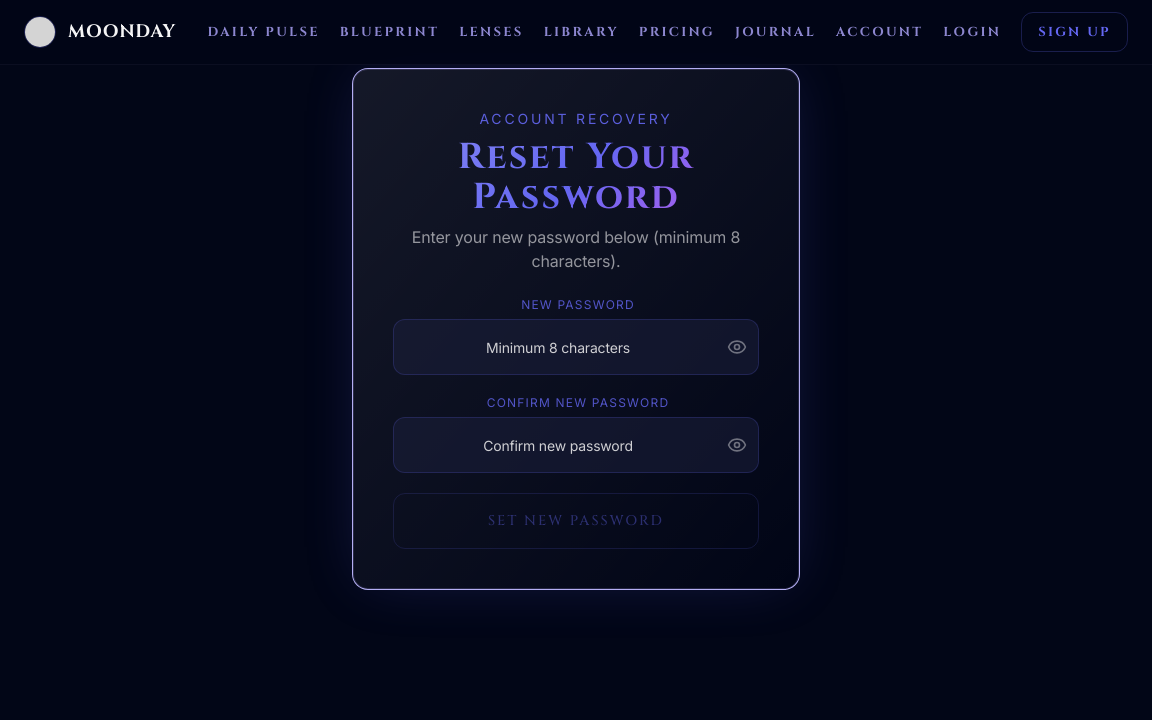
Scenario: Password Reset Flow › 2. Password Reset Page › shows success message on successful password update
The width and height of the screenshot is (1152, 720).
Expected: the heading "Reset Your Password" is shown, [393, 137, 759, 217]
In the password field with placeholder "Minimum 8 characters": (576, 347) [393, 319, 759, 375], type "secureCelestial123"
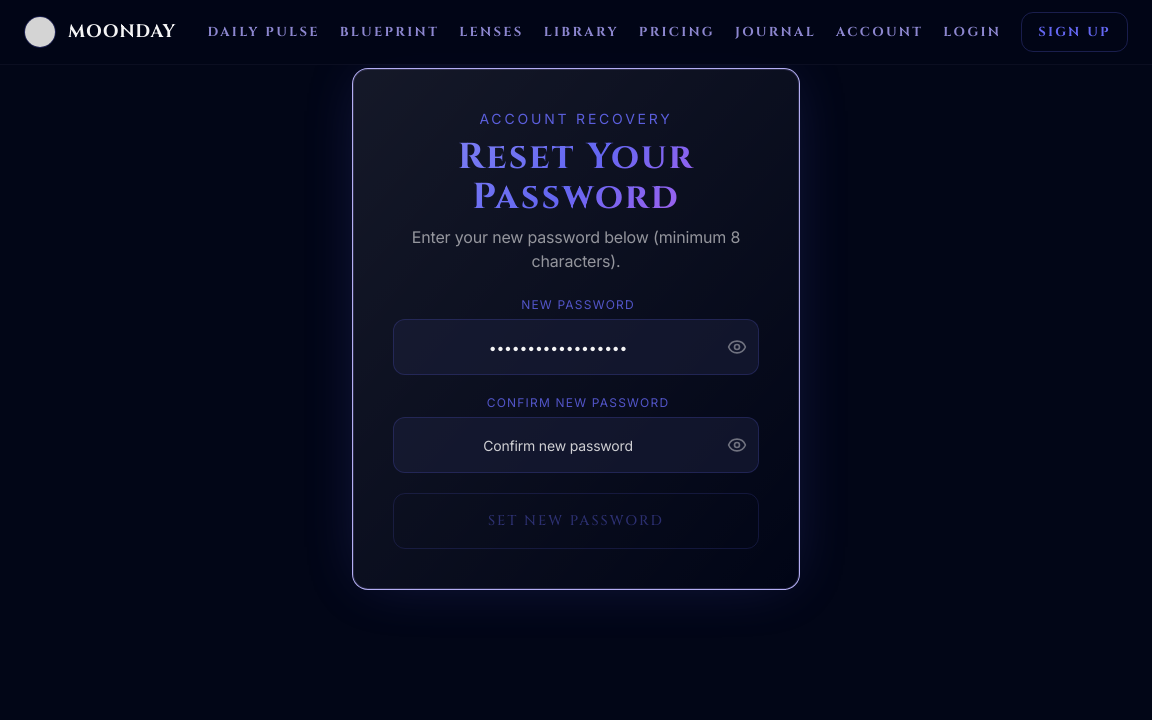
In the password field with placeholder "Confirm New Password": (576, 445) [393, 417, 759, 473], type "secureCelestial123"
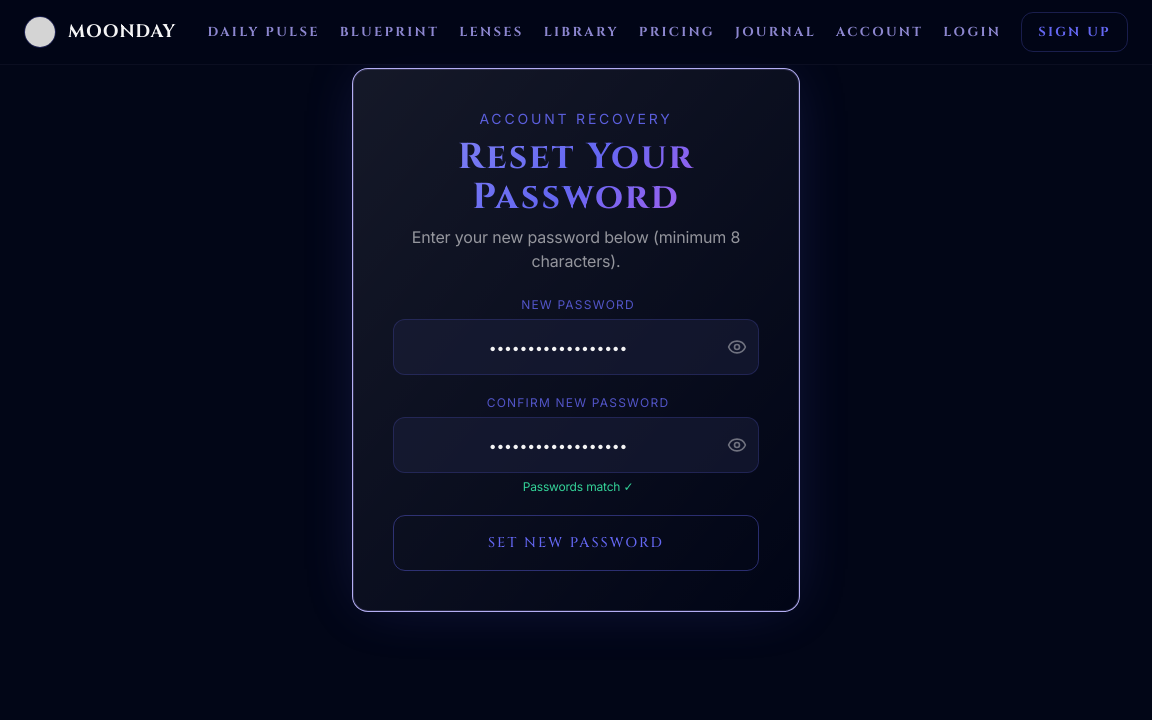
Click the button "Set New Password": click(576, 543) [393, 515, 759, 571]
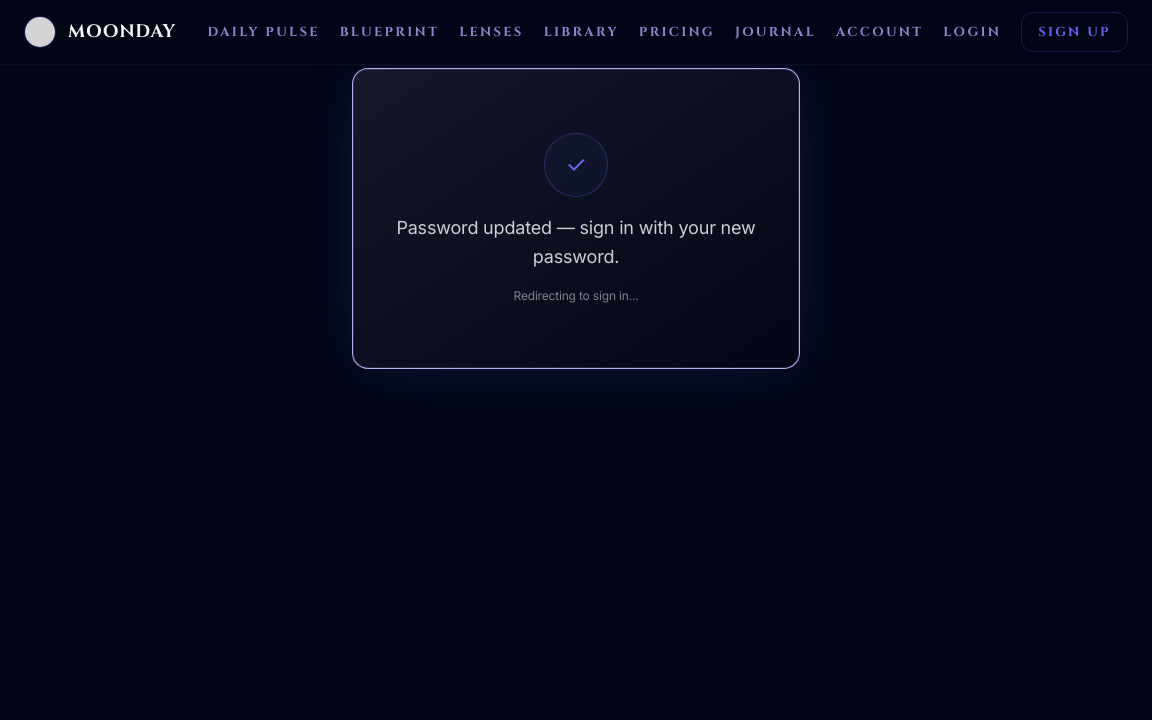
Expected: the text "Password updated — sign in with your new password." is shown, [393, 213, 759, 272]
